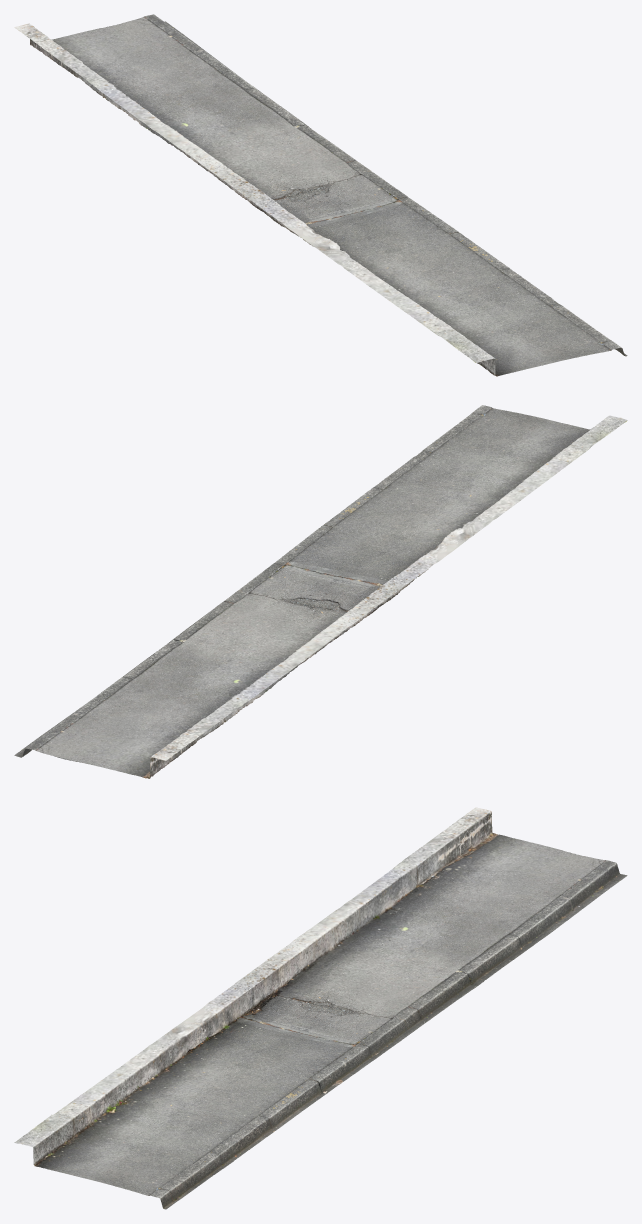
File: sidewalk_8m_long_-_hq.glb
3 renders of one model, top to bottom at view 1: azimuth 30°, elevation 25°; view 2: azimuth 150°, elevation 25°; view 3: azimuth 330°, elevation 25°, orthographic.
Visible parts, largest first — view 1: Object_2, Object_3; view 2: Object_2, Object_3; view 3: Object_2, Object_3.
Part boxes in pixels (x1,y1,x2,y2): Object_2: [14, 14, 627, 376]; Object_3: [164, 21, 542, 303]; Object_2: [22, 405, 627, 778]; Object_3: [14, 460, 507, 757]; Object_2: [14, 807, 619, 1209]; Object_3: [134, 874, 627, 1144].
Size of the model in its own units: 1.54 by 0.3555 by 8.12.
Materials: 1 (1 with a texture image).
